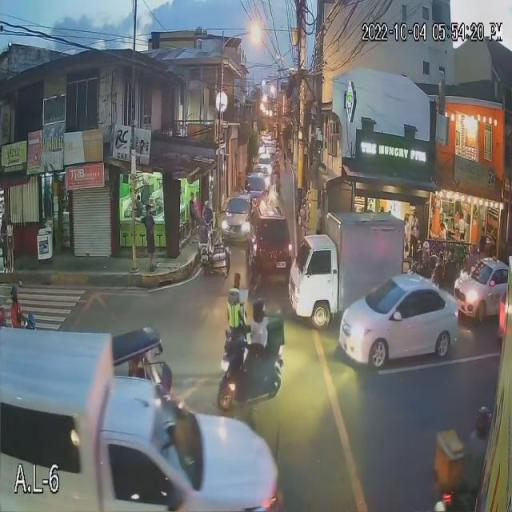helmet: (474, 407, 494, 437), (251, 298, 265, 314), (9, 286, 20, 302), (422, 241, 430, 254)
motorcycle: (216, 329, 284, 413), (424, 483, 483, 512), (202, 234, 230, 278), (407, 259, 441, 277), (26, 311, 40, 331)
rider: (240, 298, 270, 376), (461, 430, 495, 491), (8, 302, 26, 330), (422, 252, 432, 270)
